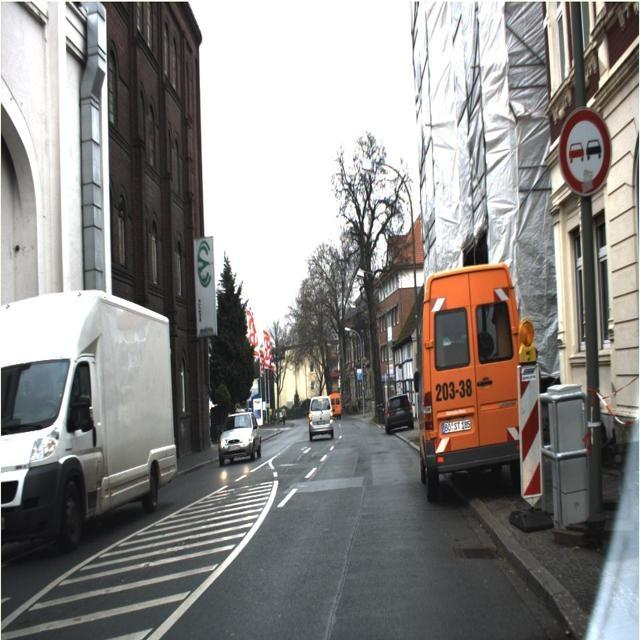forb_overtake: (558, 107, 612, 195)
